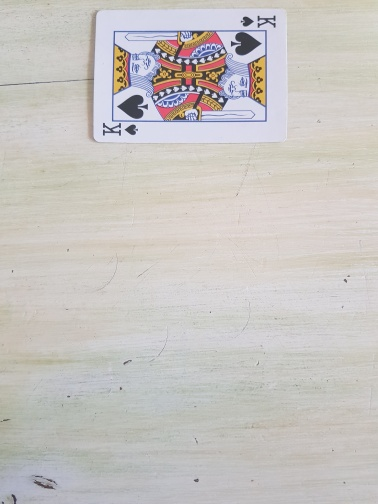king: (92, 7, 289, 144)
